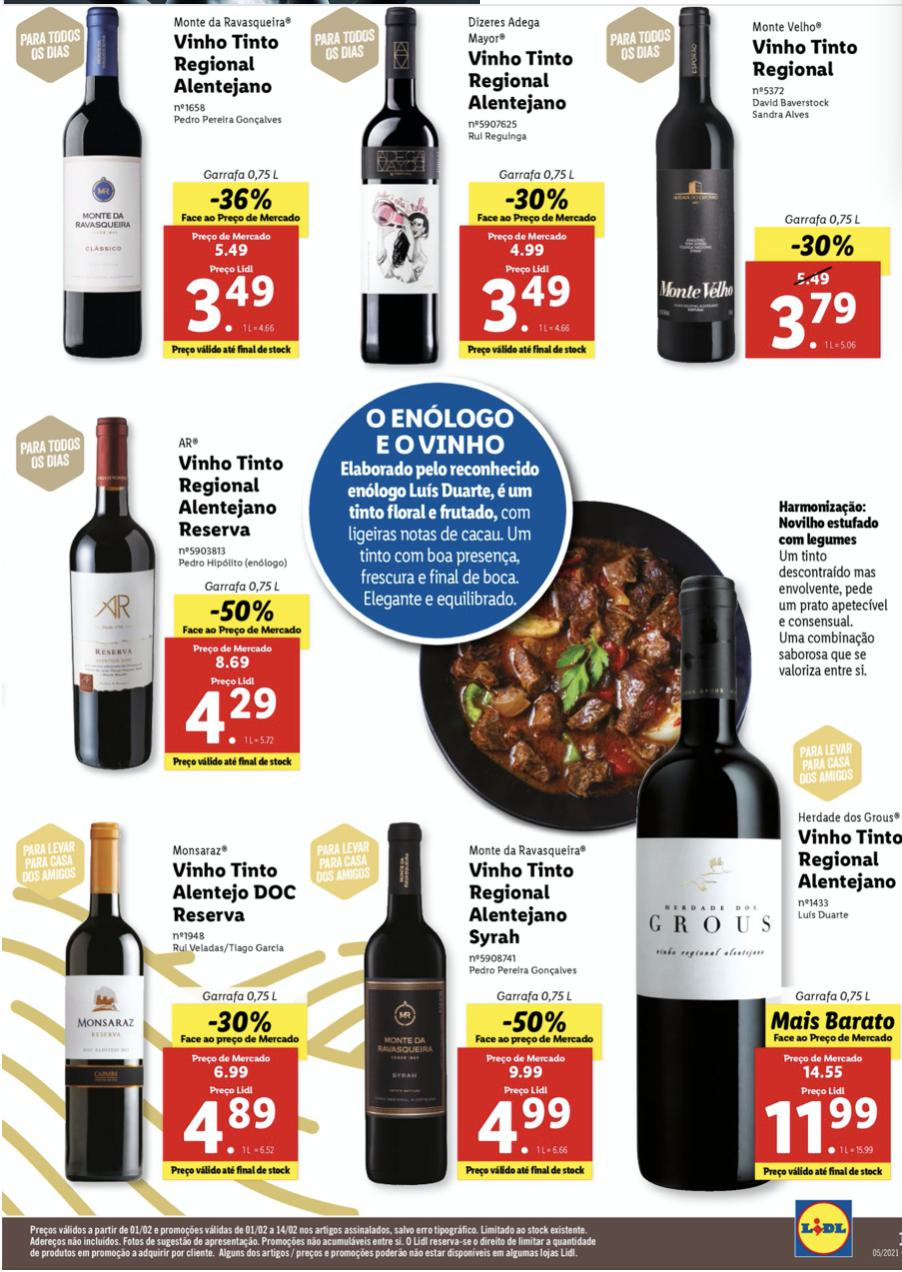name: (173, 446, 287, 541), (463, 859, 577, 949), (166, 856, 301, 929), (465, 41, 582, 113), (169, 27, 284, 100), (793, 827, 901, 897), (744, 33, 863, 83)
price: (758, 1087, 885, 1165), (468, 1084, 577, 1160), (479, 264, 584, 340), (181, 262, 284, 338), (179, 1083, 281, 1159), (184, 676, 279, 751), (771, 283, 865, 357)
product: (627, 730, 896, 1195), (4, 399, 312, 791), (9, 1, 322, 373), (8, 802, 306, 1191), (306, 818, 611, 1191), (306, 1, 608, 367), (604, 6, 895, 381)
promotion: (203, 1005, 276, 1037), (787, 230, 858, 262), (204, 184, 276, 214), (496, 186, 573, 214), (209, 595, 277, 626), (500, 1006, 569, 1035)
